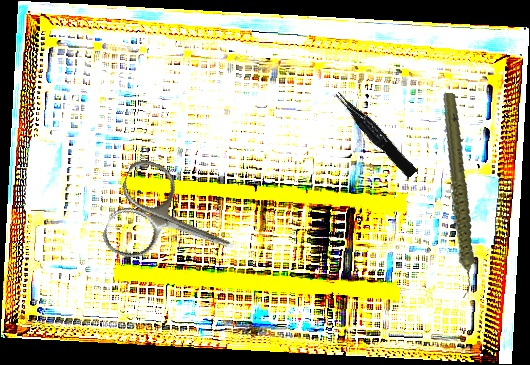Handpiece: (414, 92, 499, 299)
Iris Scissors: (98, 154, 252, 294)
Tissue Forceps: (333, 85, 418, 182)
